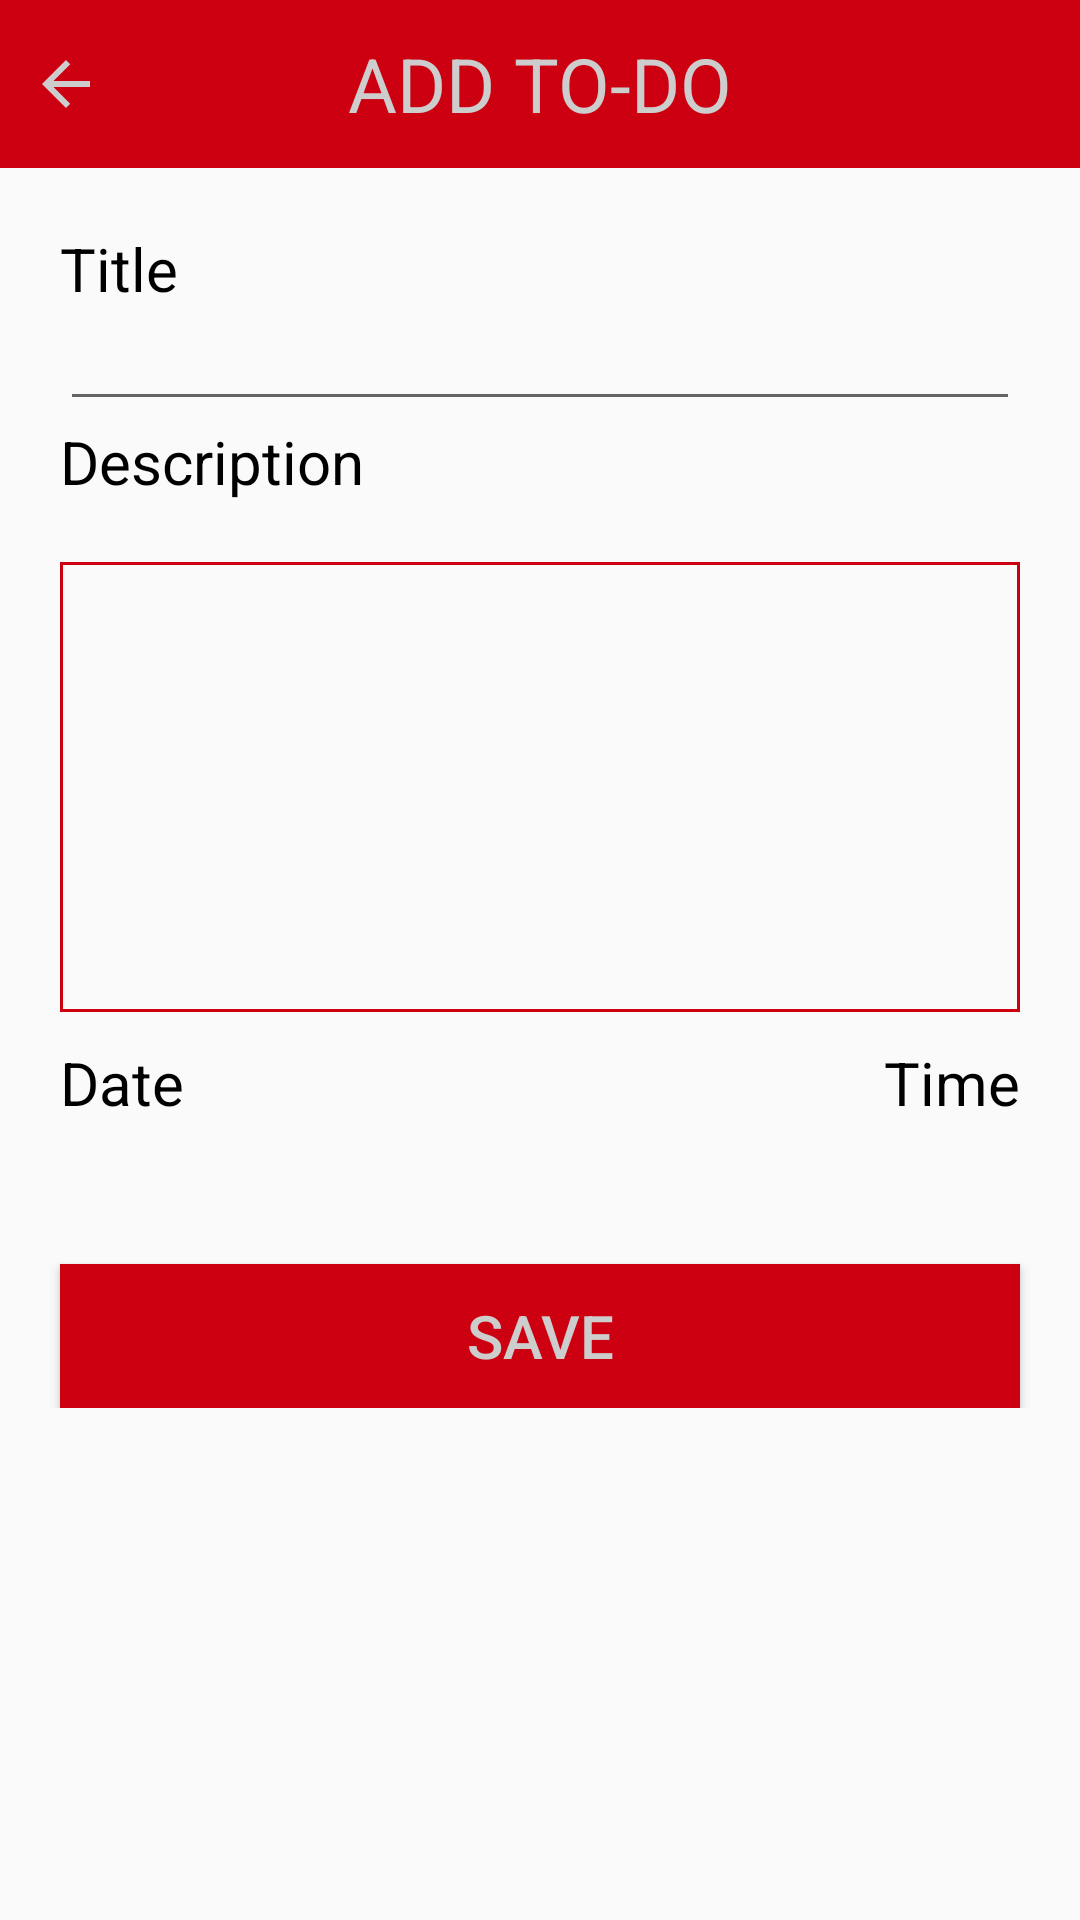

Where to tap for icons on this 1080x1920 app screen, as [x,y]:
back: [66,84]
